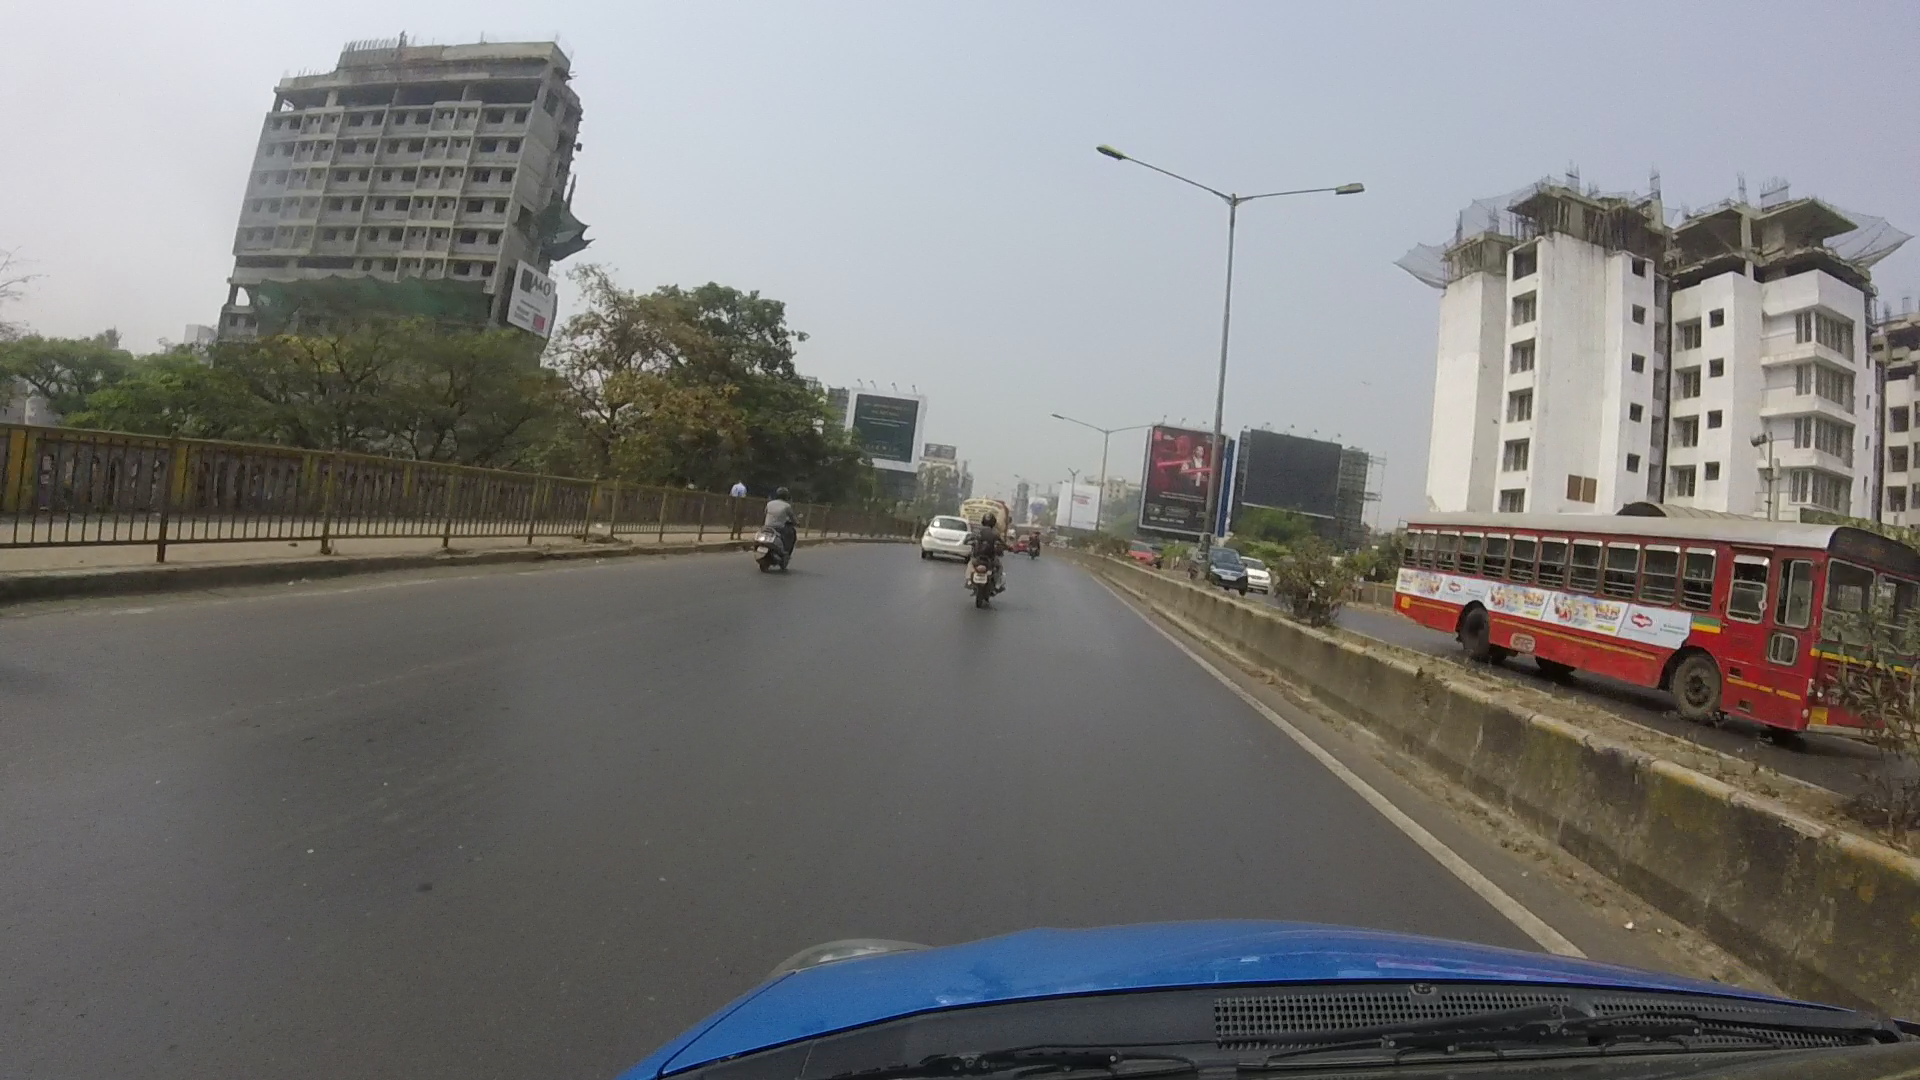bike/scooter: (960, 506, 1019, 611), (749, 481, 804, 579)
bus: (1395, 495, 1917, 761)
car: (909, 496, 978, 572)
